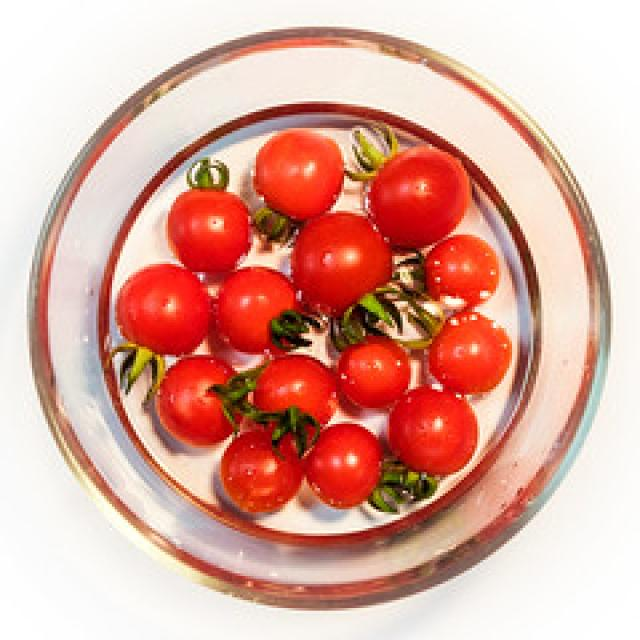Tomato: (288, 210, 408, 348), (345, 119, 472, 248), (103, 261, 224, 394), (305, 418, 426, 520), (384, 385, 484, 507), (252, 126, 346, 248), (164, 157, 258, 275), (150, 351, 254, 451), (400, 305, 518, 392), (213, 264, 319, 359), (250, 352, 340, 461), (218, 407, 306, 518), (328, 306, 413, 412), (396, 233, 504, 310)
